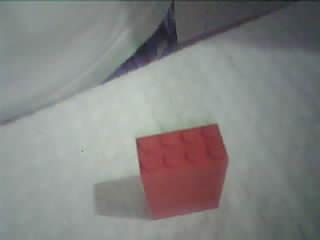lego: (133, 122, 230, 221)
